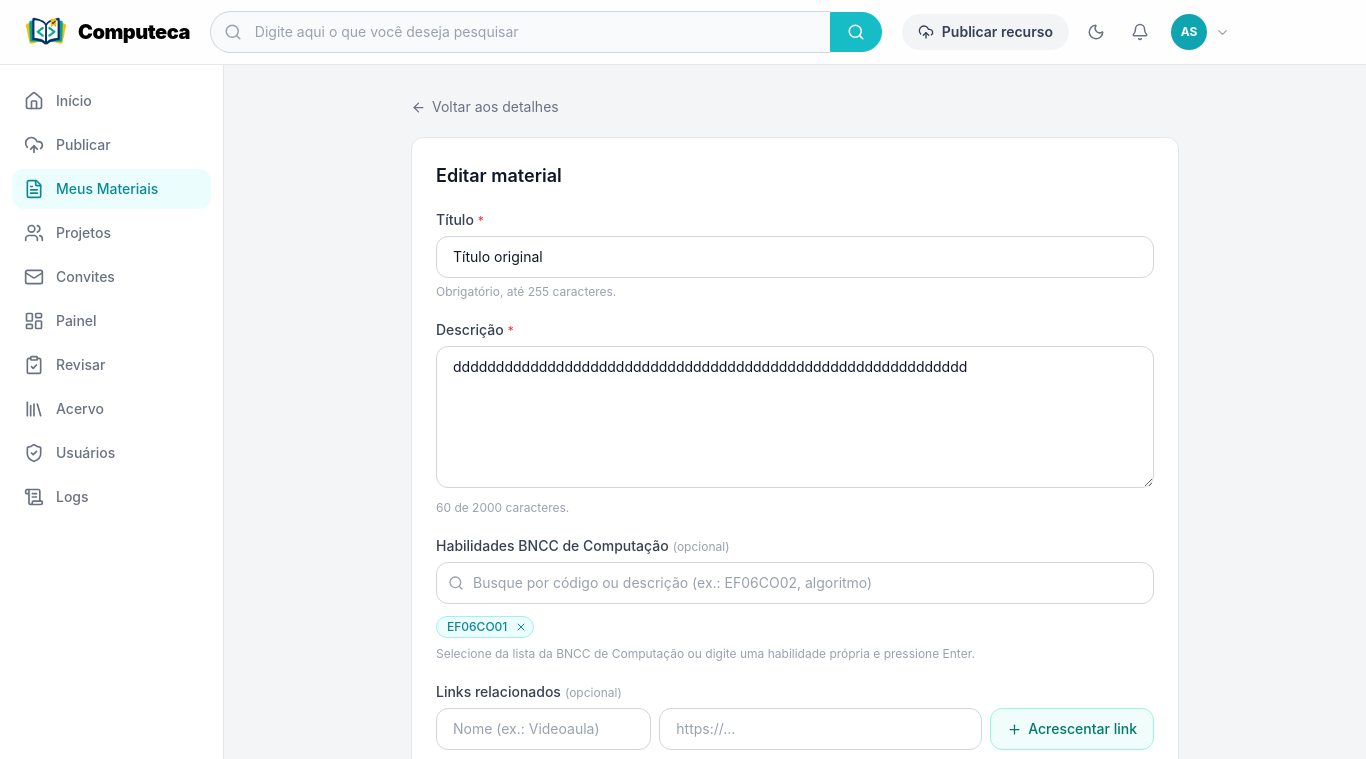
Test: MaterialEditPage › impede salvar com descrição abaixo do mínimo, informando a regra antes do envio
Replace the text in the text box labelled "Descrição*" with "curta" at (795, 417), box [436,346,1154,488]
(page scrolled)
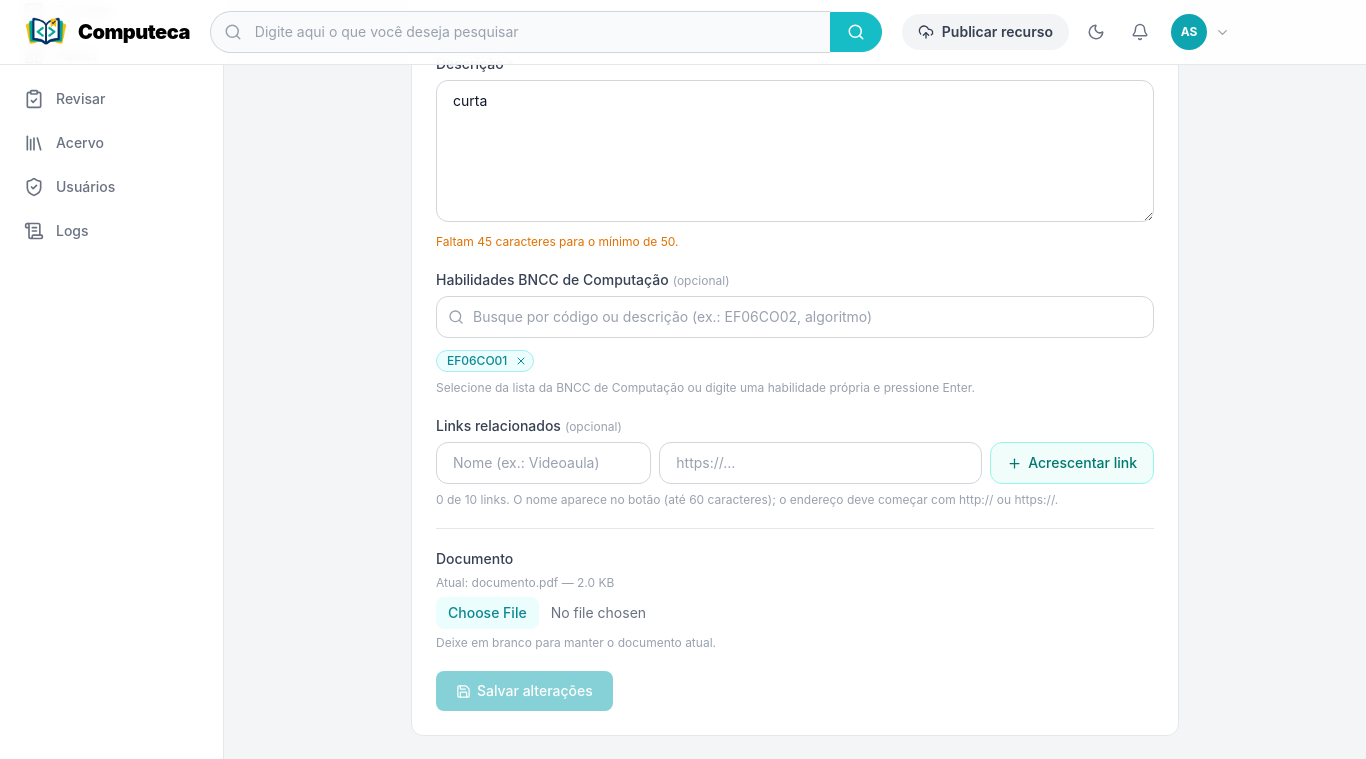
Check: the text "Faltam 45 caracteres para o mínimo de 50." is shown, box [436,234,679,249]
Check: the button "Salvar alterações" is disabled, box [436,671,613,711]
